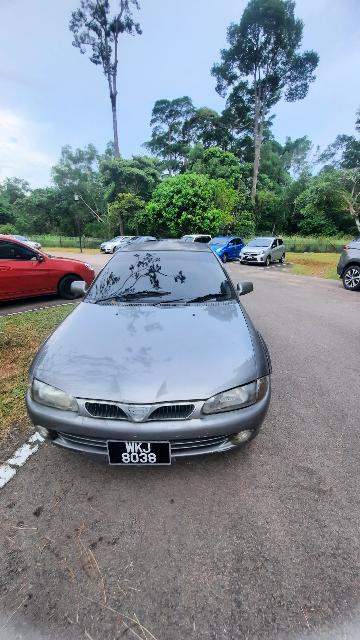License_Plate: (102, 440, 174, 471)
car: (29, 240, 276, 473)
